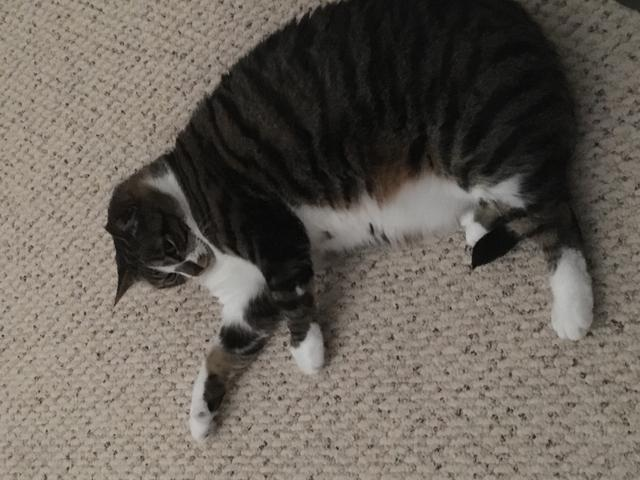playdoh: (104, 1, 594, 441)
